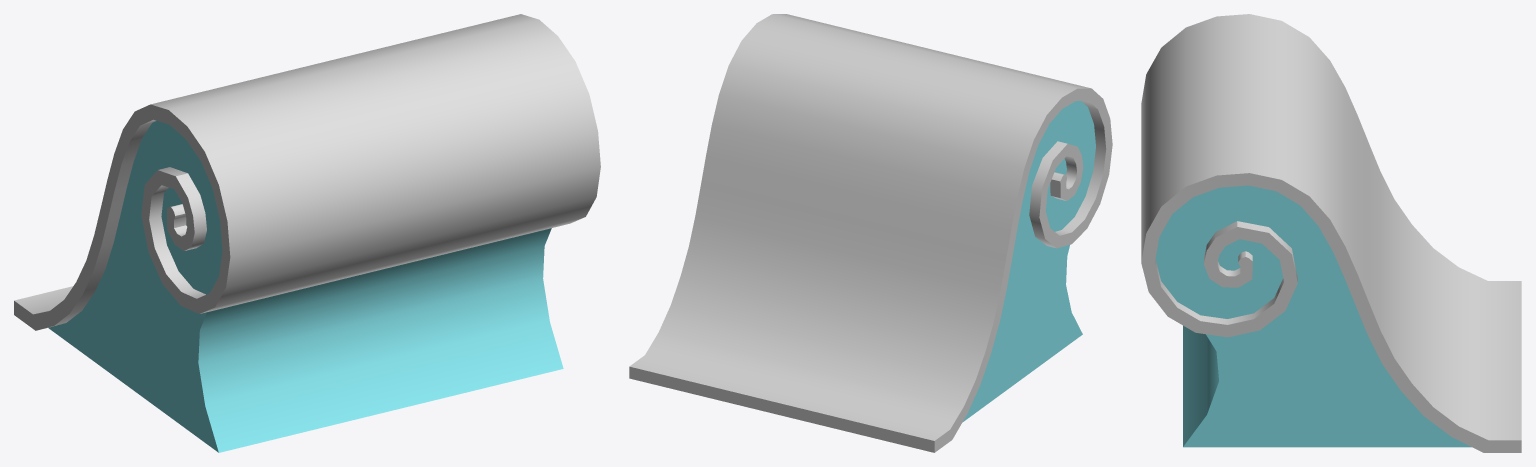
Rendered from Wave.fbx.
The picture shows the model from 3 angles, left to right: view 1: azimuth 30°, elevation 25°; view 2: azimuth 150°, elevation 25°; view 3: azimuth 270°, elevation 25°; orthographic projection. The views are drawn at different scales.
Parts seen in each view (by area): view 1: mesh_wave_foam, mesh_wave_water; view 2: mesh_wave_foam, mesh_wave_water; view 3: mesh_wave_foam, mesh_wave_water.
Boxes of the visible parts, <box> form: mesh_wave_foam: <box>14,14,600,330</box>; mesh_wave_water: <box>48,121,563,452</box>; mesh_wave_foam: <box>629,14,1112,452</box>; mesh_wave_water: <box>962,101,1095,422</box>; mesh_wave_foam: <box>1141,14,1521,452</box>; mesh_wave_water: <box>1155,185,1471,447</box>.
Bounding box in the file's own units: 4.94 × 4.06 × 5.
